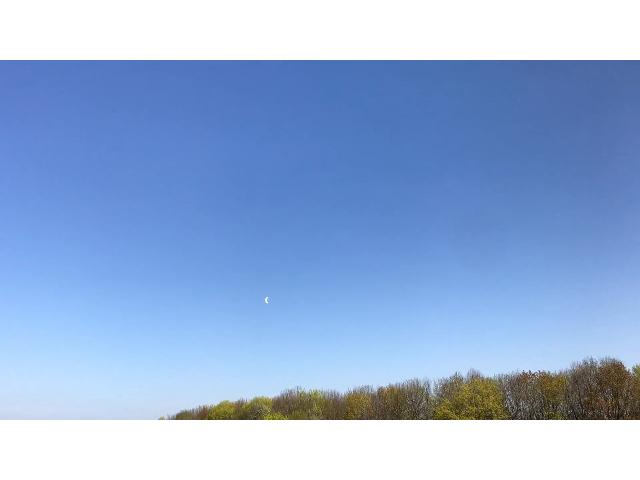Anti-Drone: (257, 293, 283, 311)
